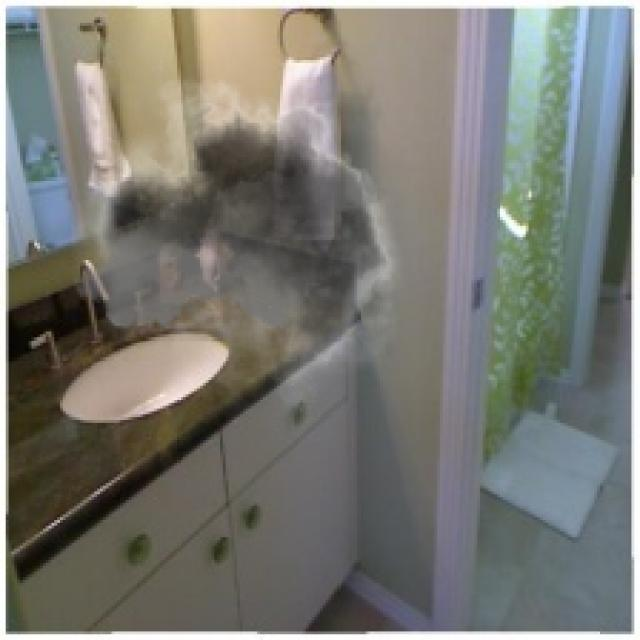Smoke: (72, 60, 417, 426)
